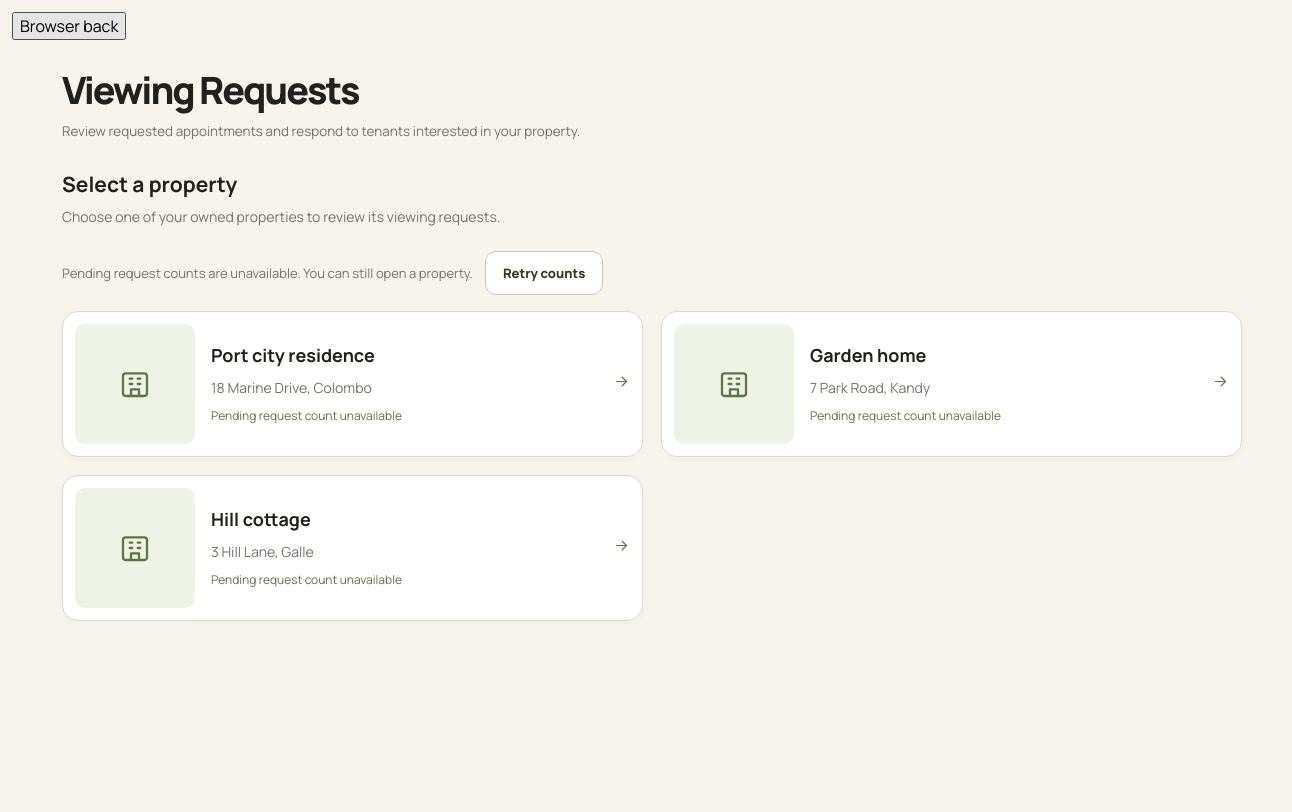
Test: Viewing property cards › opens a property when the count service is unavailable
Expected: the text "You can still open a property" is shown, [62, 264, 473, 282]
Click the button with aria-label "Port city residence, pending viewing count unavailable" at (352, 384), box [62, 311, 643, 457]
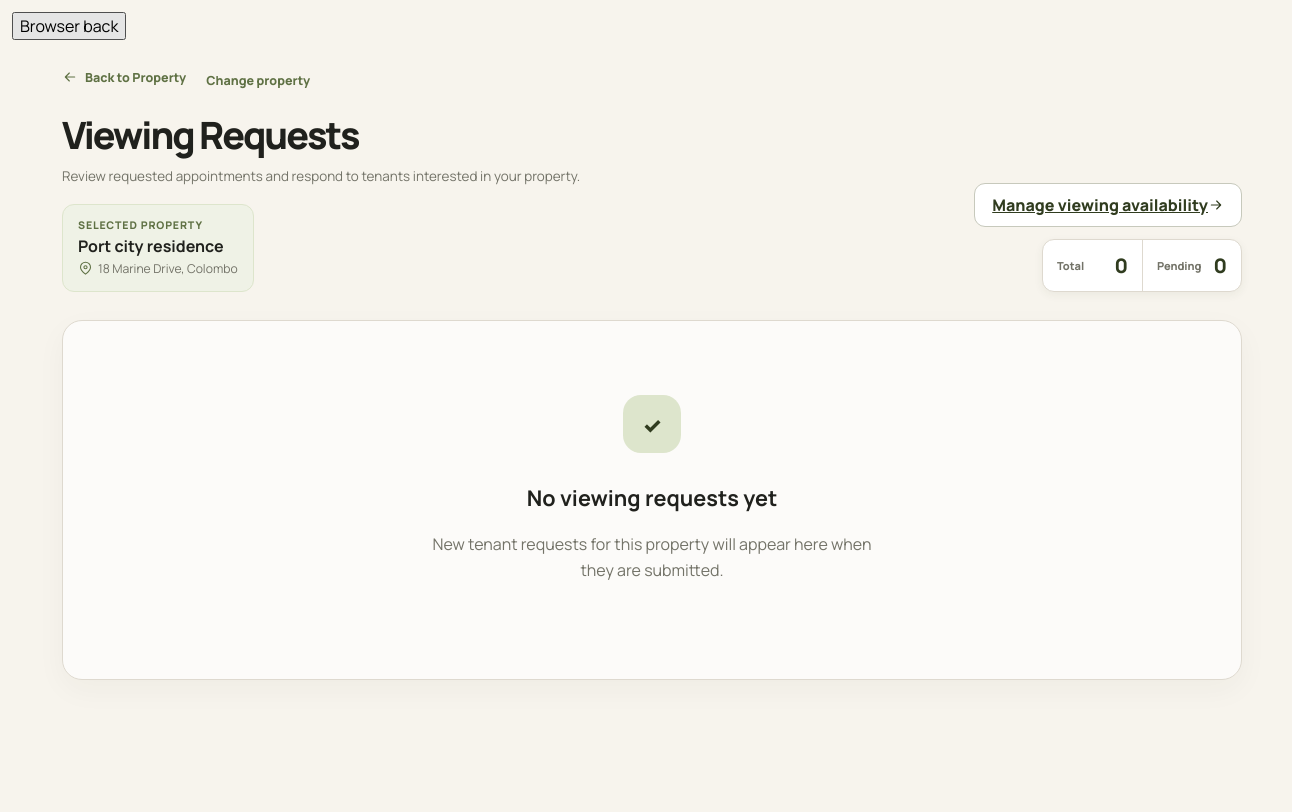
Expected: the heading "No viewing requests yet" is shown, [527, 483, 777, 512]
